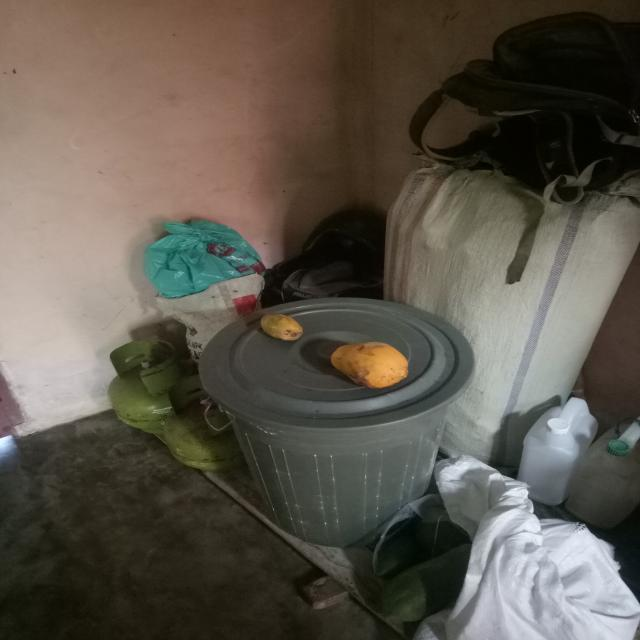Pepaya rippen: (327, 341, 412, 391), (260, 307, 306, 340)
